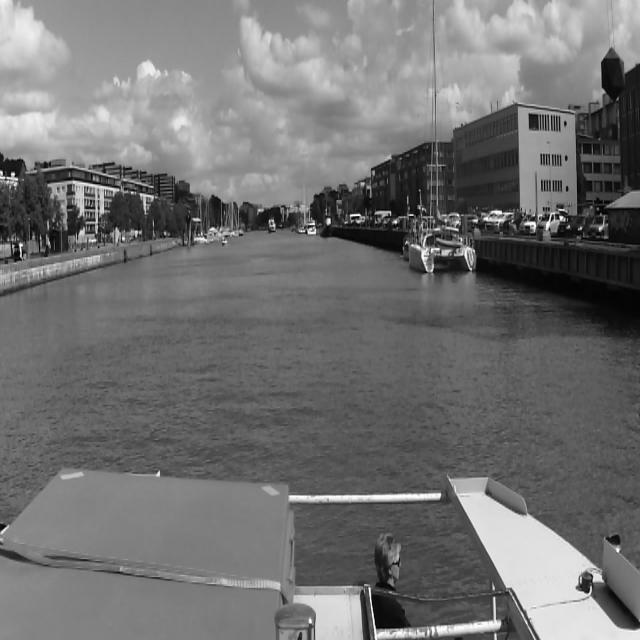ship: (407, 0, 477, 272), (193, 193, 209, 243), (218, 198, 232, 238), (308, 218, 316, 236), (269, 219, 275, 233), (222, 238, 228, 245)
